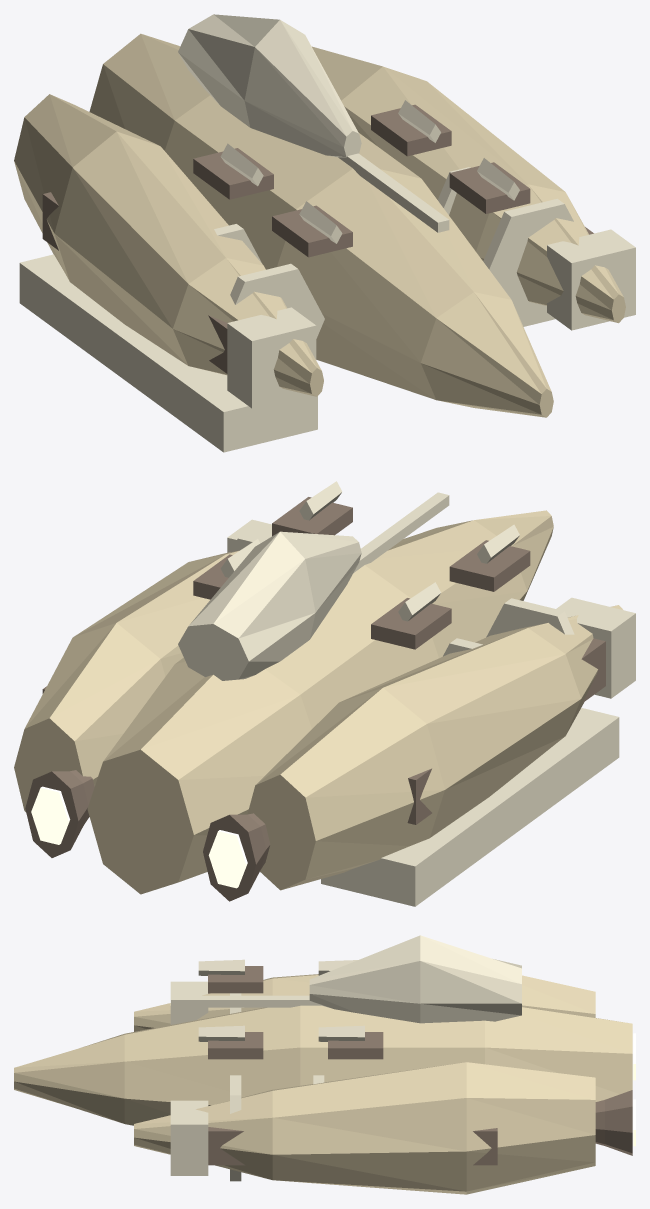
The picture shows the model from 3 angles, top to bottom: view 1: azimuth 30°, elevation 25°; view 2: azimuth 150°, elevation 25°; view 3: azimuth 270°, elevation 25°; orthographic projection. The views are drawn at different scales.
Bounding box in the file's own units: 7.61 × 5.16 × 13.18.
